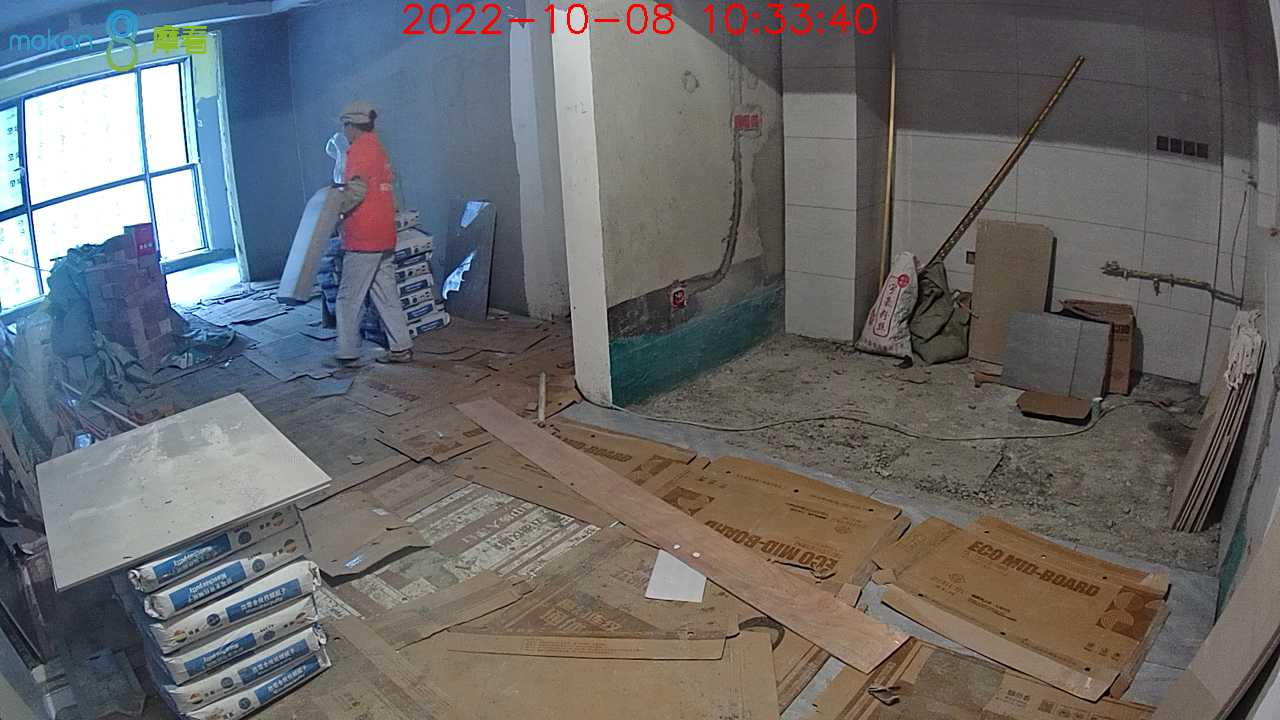people: (316, 102, 414, 369)
window: (3, 58, 244, 306)
